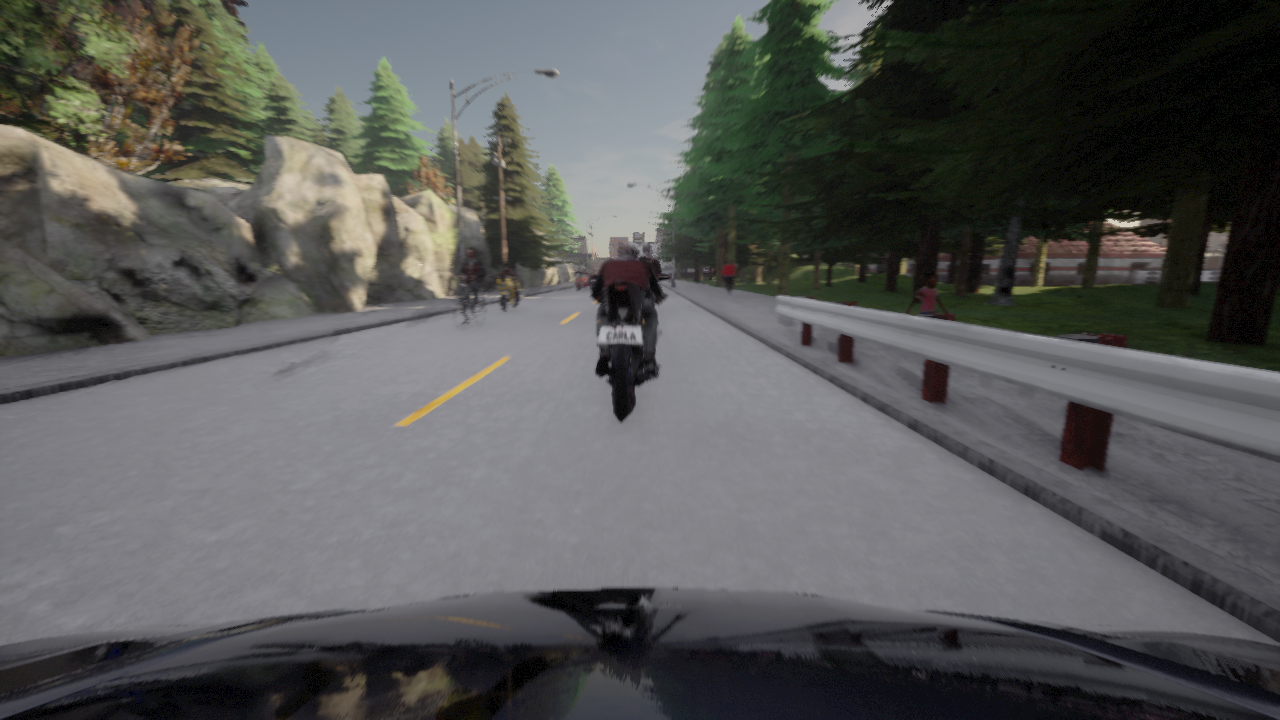cyclist: (0, 588, 1279, 719), (591, 274, 669, 422), (454, 277, 485, 330), (490, 275, 521, 312), (574, 273, 584, 292), (582, 276, 593, 288), (663, 272, 668, 274)
pedestrian: (904, 273, 947, 314), (723, 259, 736, 295)
